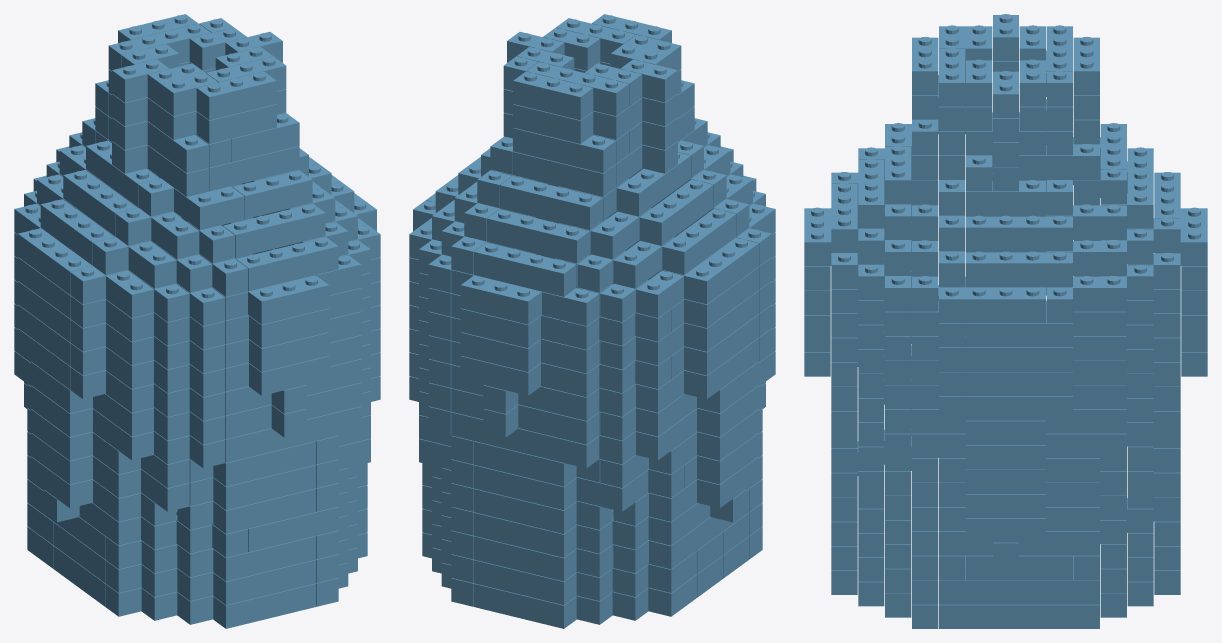
The model's file is 077_bottle_L2.glb.
3 views of the same model, side by side, from view 1: azimuth 30°, elevation 25°; view 2: azimuth 150°, elevation 25°; view 3: azimuth 270°, elevation 25° (orthographic). The views are drawn at different scales.
Bounding box in the file's own units: 12.98 × 21.13 × 14.98.
